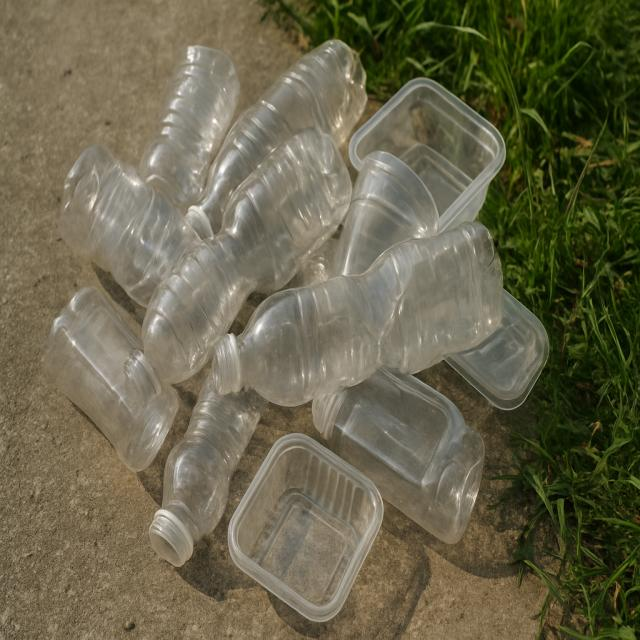plastic: (213, 222, 504, 400), (230, 431, 384, 616), (348, 78, 505, 230)
